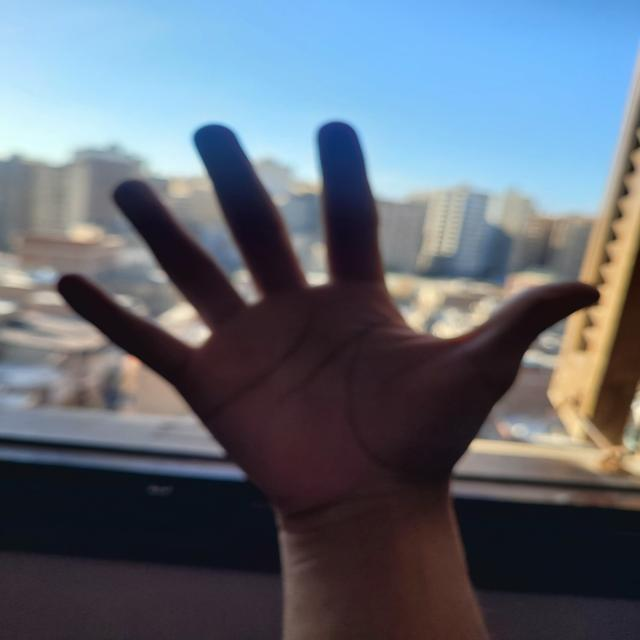Open Hand: (55, 119, 602, 518)
